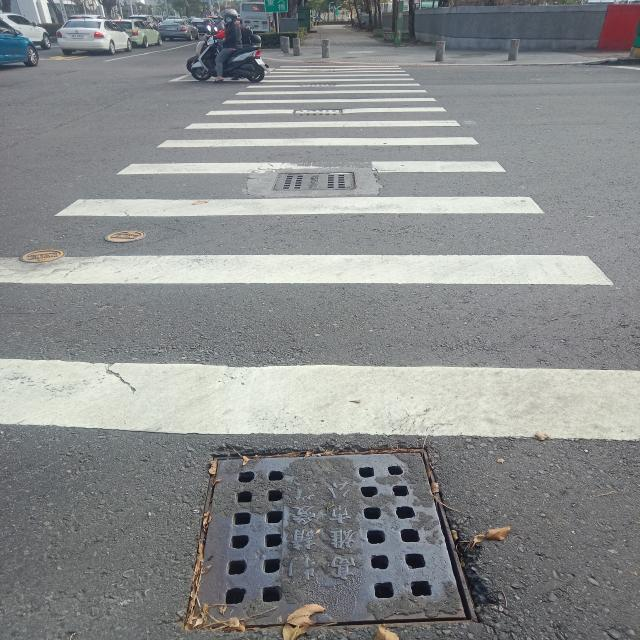zebra_crossing: (267, 24, 531, 91)
